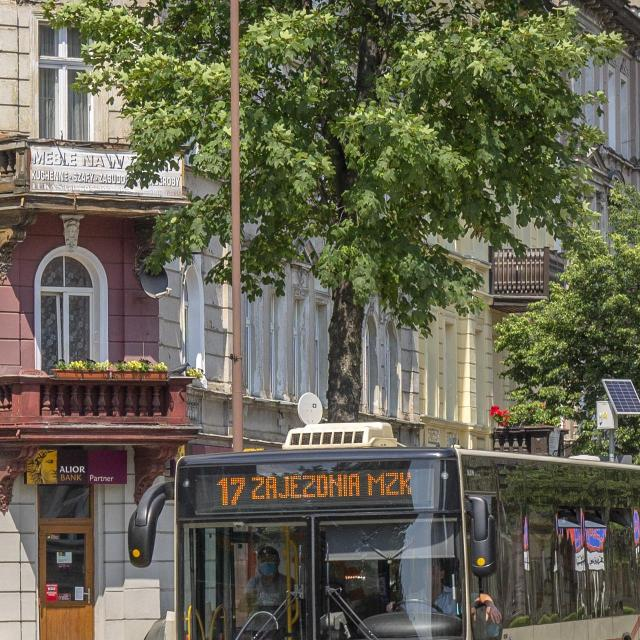Bus: (130, 446, 640, 640)
